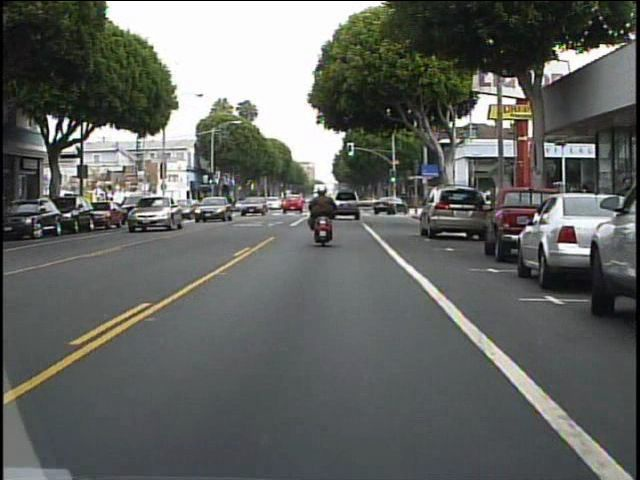person: (307, 180, 342, 243)
